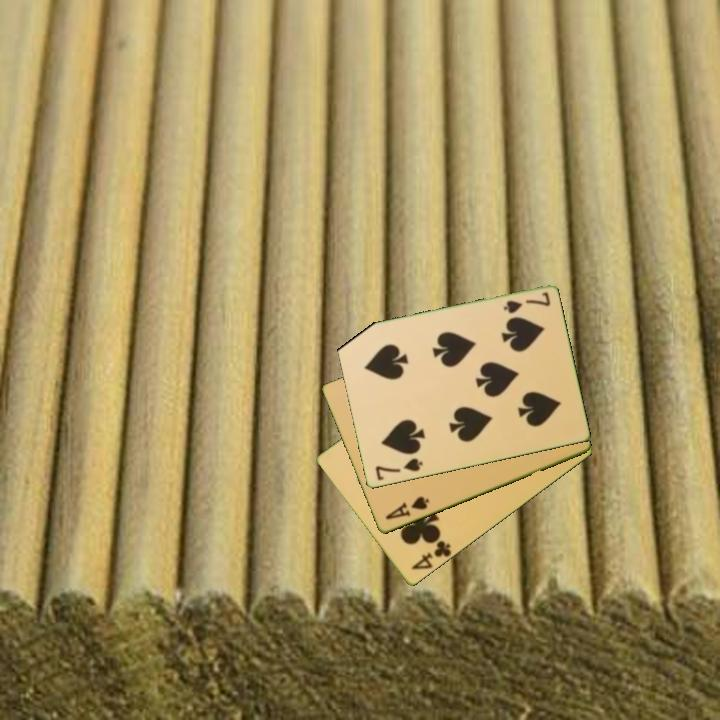4c: (407, 537, 454, 573)
7s: (372, 455, 425, 484), (500, 289, 553, 317)
As: (382, 493, 432, 523)
